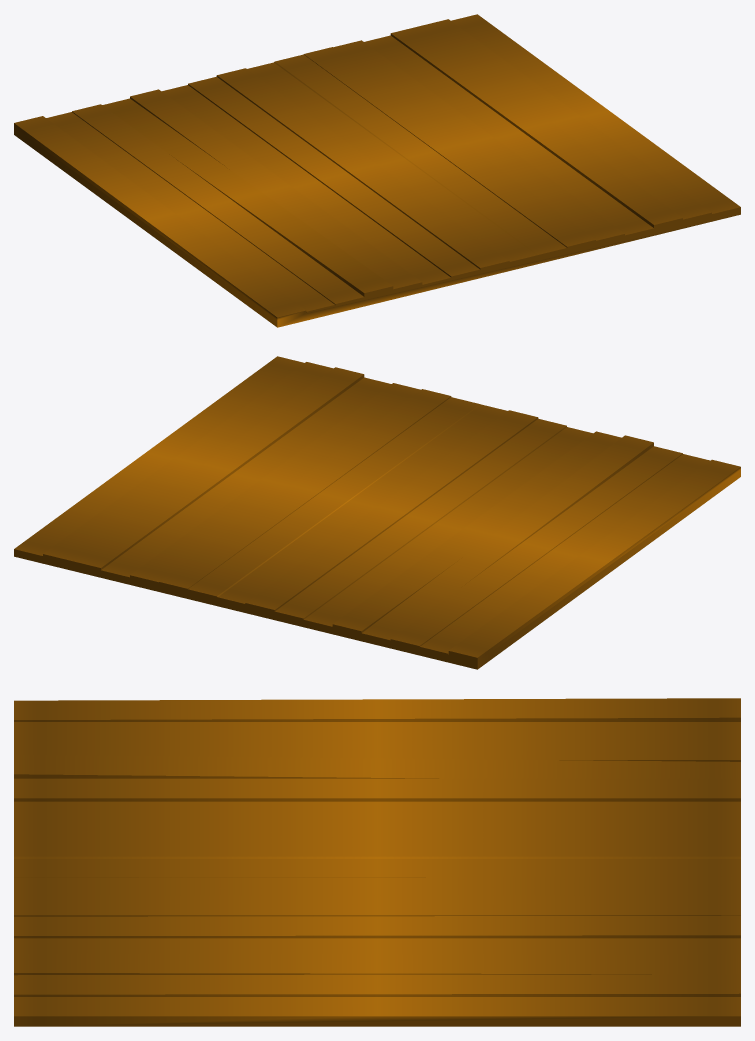
Rendered from WoodFloor1.fbx.
The picture shows the model from 3 angles, top to bottom: view 1: azimuth 30°, elevation 25°; view 2: azimuth 150°, elevation 25°; view 3: azimuth 270°, elevation 25°; orthographic projection. The views are drawn at different scales.
Parts seen in each view (by area): view 1: wood_floor1; view 2: wood_floor1; view 3: wood_floor1.
Boxes of the visible parts, left/top/right/bottom form: wood_floor1: left=14, top=14, right=740, bottom=327; wood_floor1: left=14, top=356, right=740, bottom=669; wood_floor1: left=14, top=698, right=740, bottom=1026.
Bounding box in the file's own units: 492 × 13.48 × 485.
